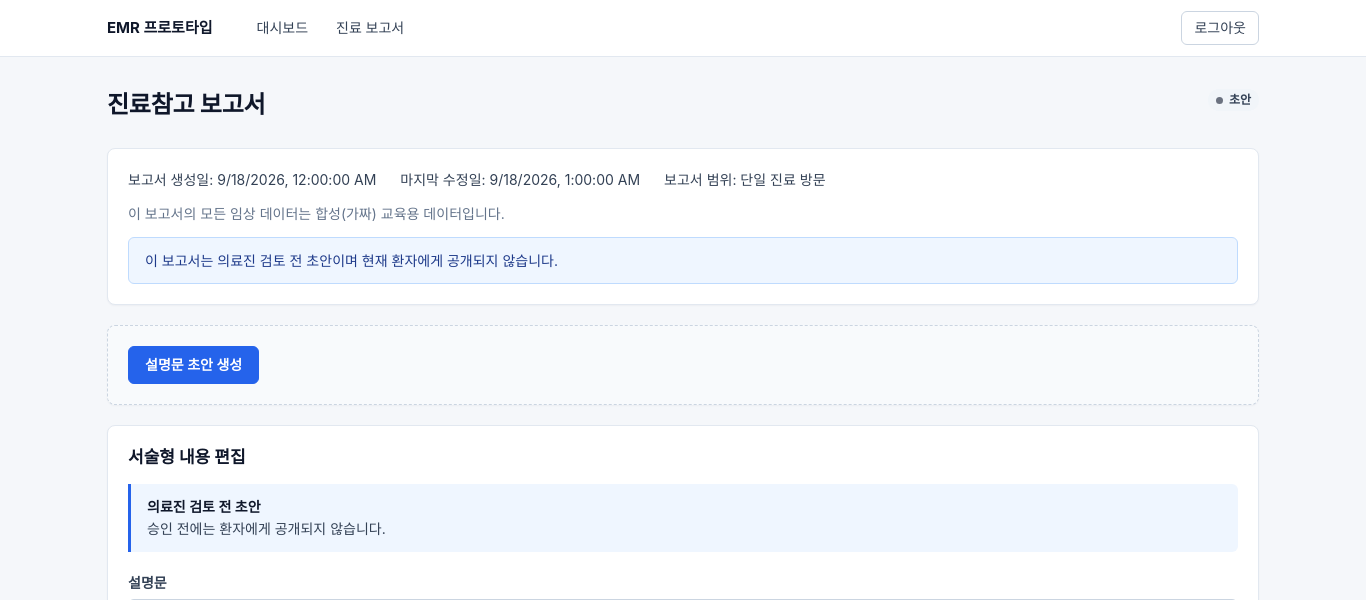
Test: ClinicalReportPreviewPage › aborts and shows the timeout notice once 75 seconds elapse, then re-enables the button
Click the button "설명문 초안 생성": (194,365) [128,346,259,384]
Wait 75000 ms
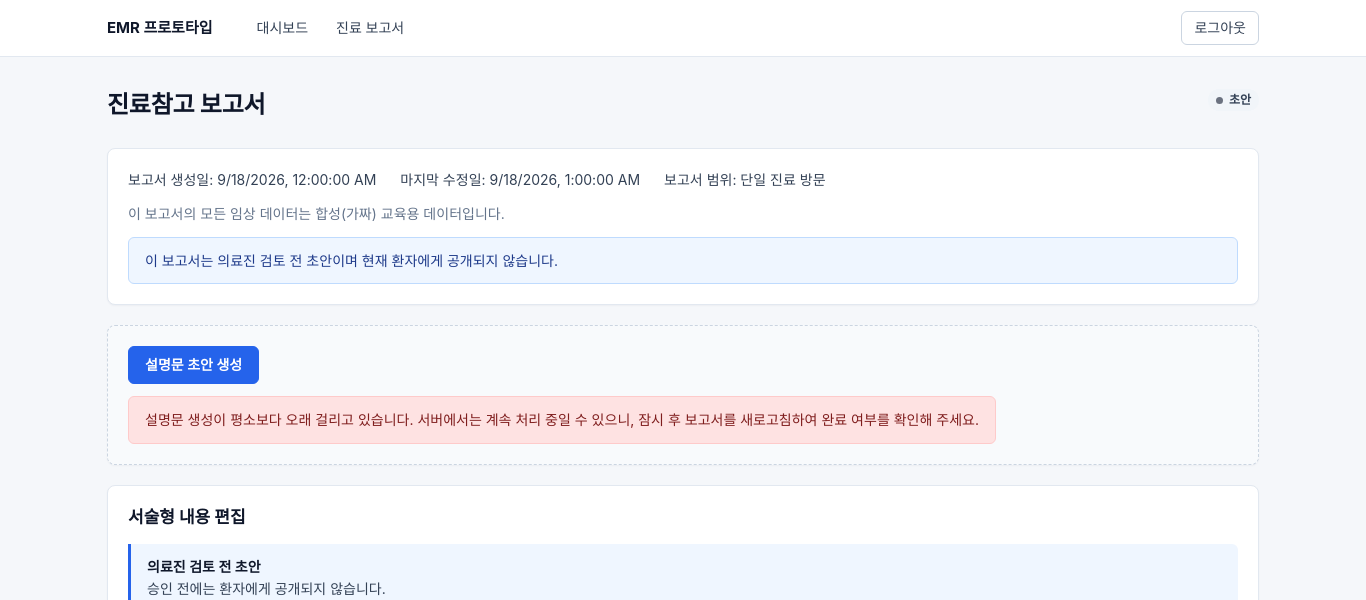
Result: the message reads "설명문 생성이 평소보다 오래 걸리고 있습니다. 서버에서는 계속 처리 중일 수 있으니, 잠시 후 보고서를 새로고침하여 완료 여부를 확인해 주세요." at [145,411,979,428]
